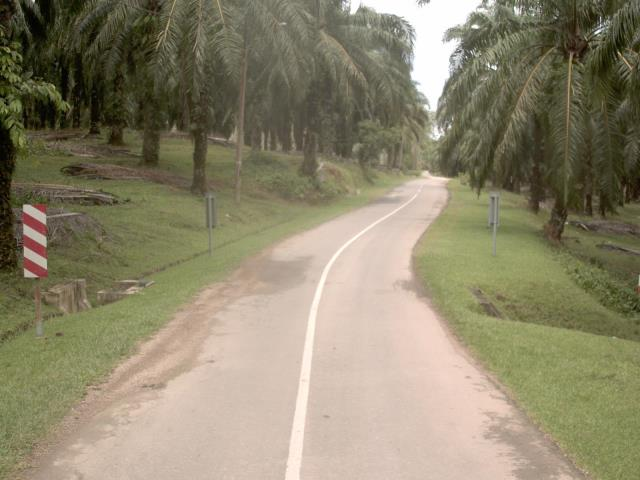traffic_sign: (14, 194, 57, 287)
